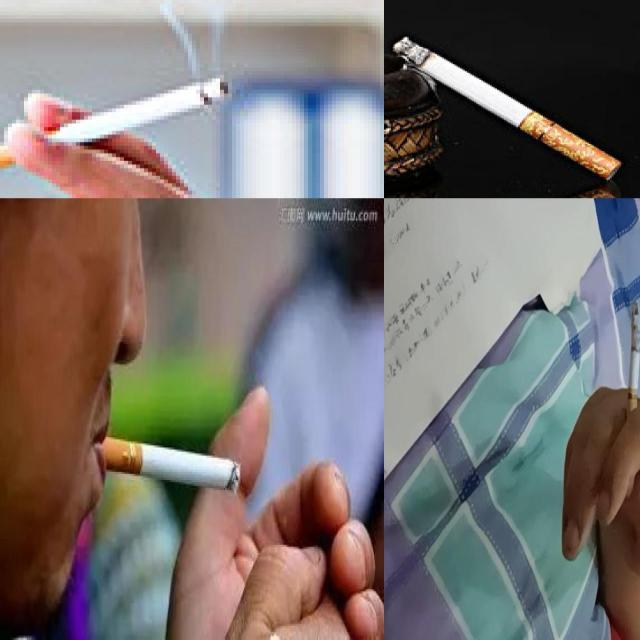smoking: (393, 35, 623, 180), (0, 76, 230, 170), (96, 437, 242, 494), (624, 302, 640, 450)
